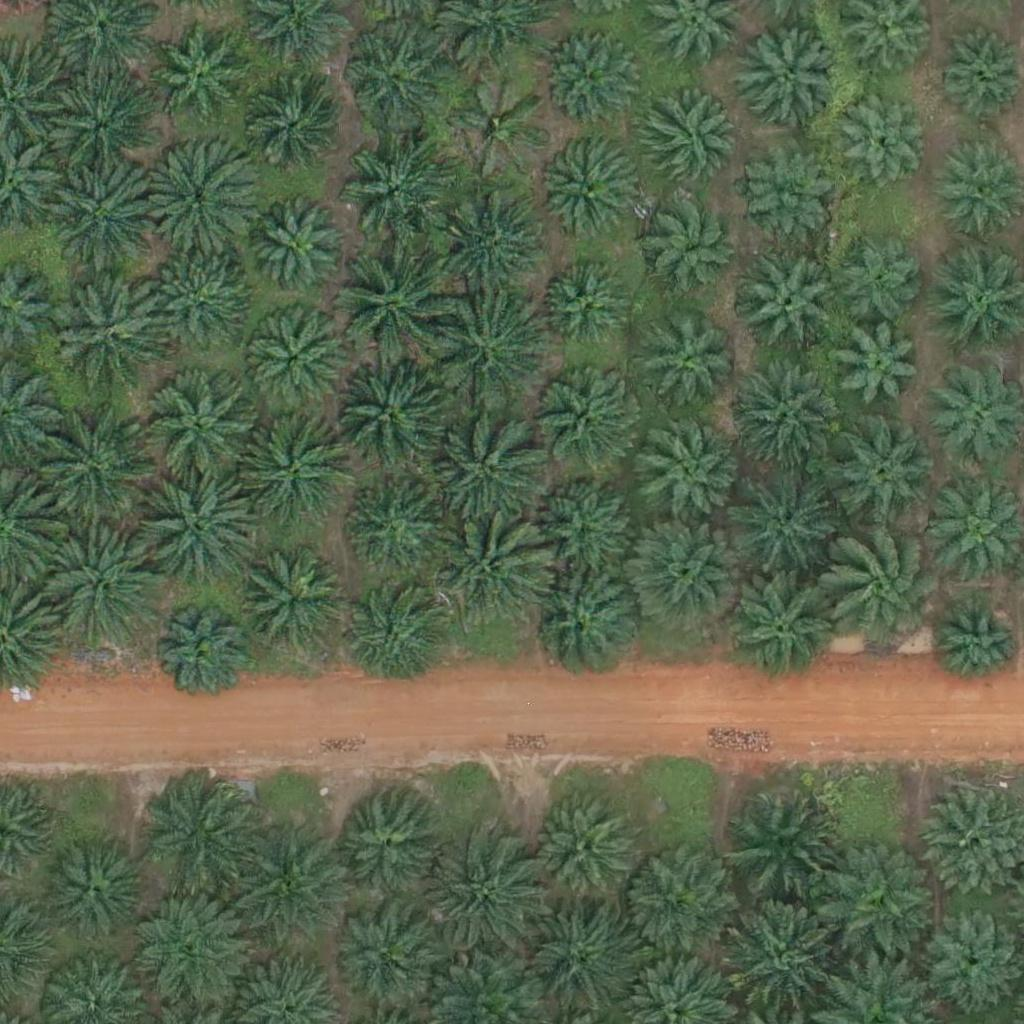Kelapa_Sawit: (823, 528, 948, 654), (334, 356, 447, 470), (141, 140, 254, 254), (50, 156, 163, 270), (44, 533, 157, 647), (818, 850, 931, 963), (621, 846, 734, 959), (519, 905, 632, 1018), (331, 898, 444, 1011), (224, 834, 337, 947), (138, 783, 251, 896), (131, 900, 244, 1013), (727, 365, 840, 478), (727, 466, 840, 579), (723, 573, 836, 686), (428, 410, 541, 523), (431, 181, 544, 294), (333, 250, 446, 363), (236, 414, 349, 527), (146, 375, 259, 488), (55, 274, 168, 387), (329, 788, 441, 902), (431, 295, 543, 409), (730, 786, 842, 899), (723, 897, 835, 1010), (427, 839, 539, 952), (823, 417, 935, 530), (632, 521, 744, 634), (526, 567, 638, 680), (431, 515, 543, 628), (339, 129, 451, 242), (238, 551, 350, 664), (148, 472, 260, 585), (37, 407, 149, 520), (921, 903, 1021, 1004), (529, 799, 629, 900), (47, 835, 147, 936), (739, 29, 839, 130), (743, 258, 843, 359), (636, 91, 736, 192), (641, 191, 741, 292), (637, 423, 737, 524), (542, 26, 642, 127), (539, 142, 639, 243), (538, 368, 638, 469), (342, 27, 442, 128), (346, 480, 446, 581), (343, 589, 443, 690), (243, 312, 343, 413), (149, 27, 249, 128), (735, 141, 835, 241), (539, 470, 639, 570), (451, 77, 551, 177), (240, 86, 340, 186), (151, 259, 251, 359), (51, 75, 151, 175), (253, 206, 341, 295), (541, 267, 629, 355), (933, 600, 1020, 688), (837, 95, 924, 183), (837, 236, 924, 324), (834, 324, 921, 412), (645, 319, 732, 407), (156, 613, 243, 701)
